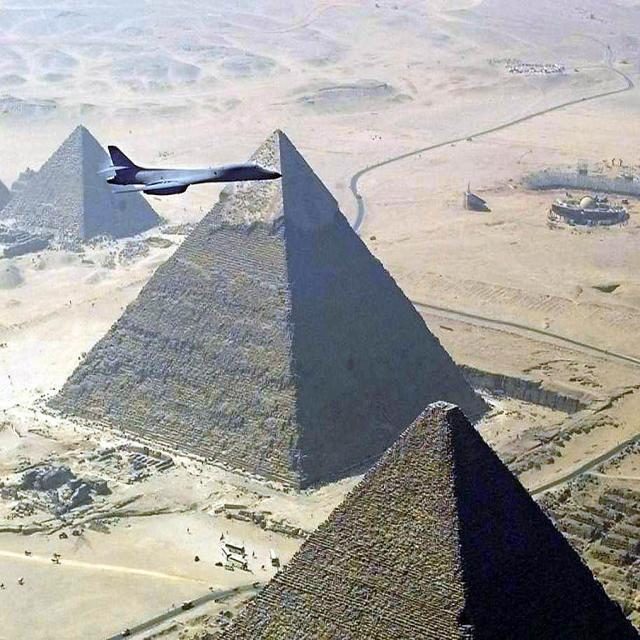MIL_Plane: (63, 81, 187, 132)
